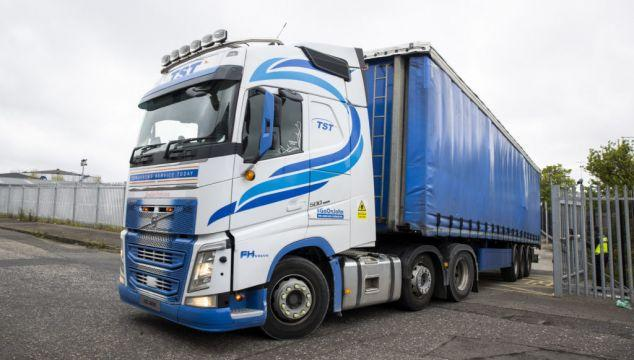truck: (117, 29, 542, 341)
